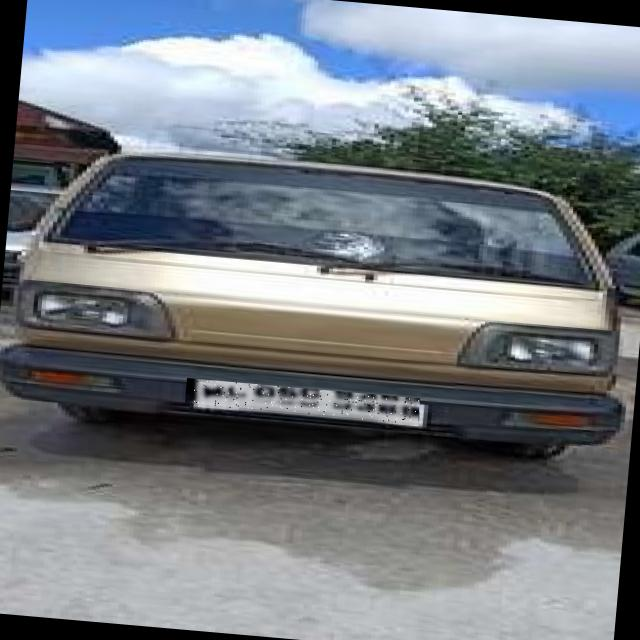Plate: (186, 380, 421, 426)
